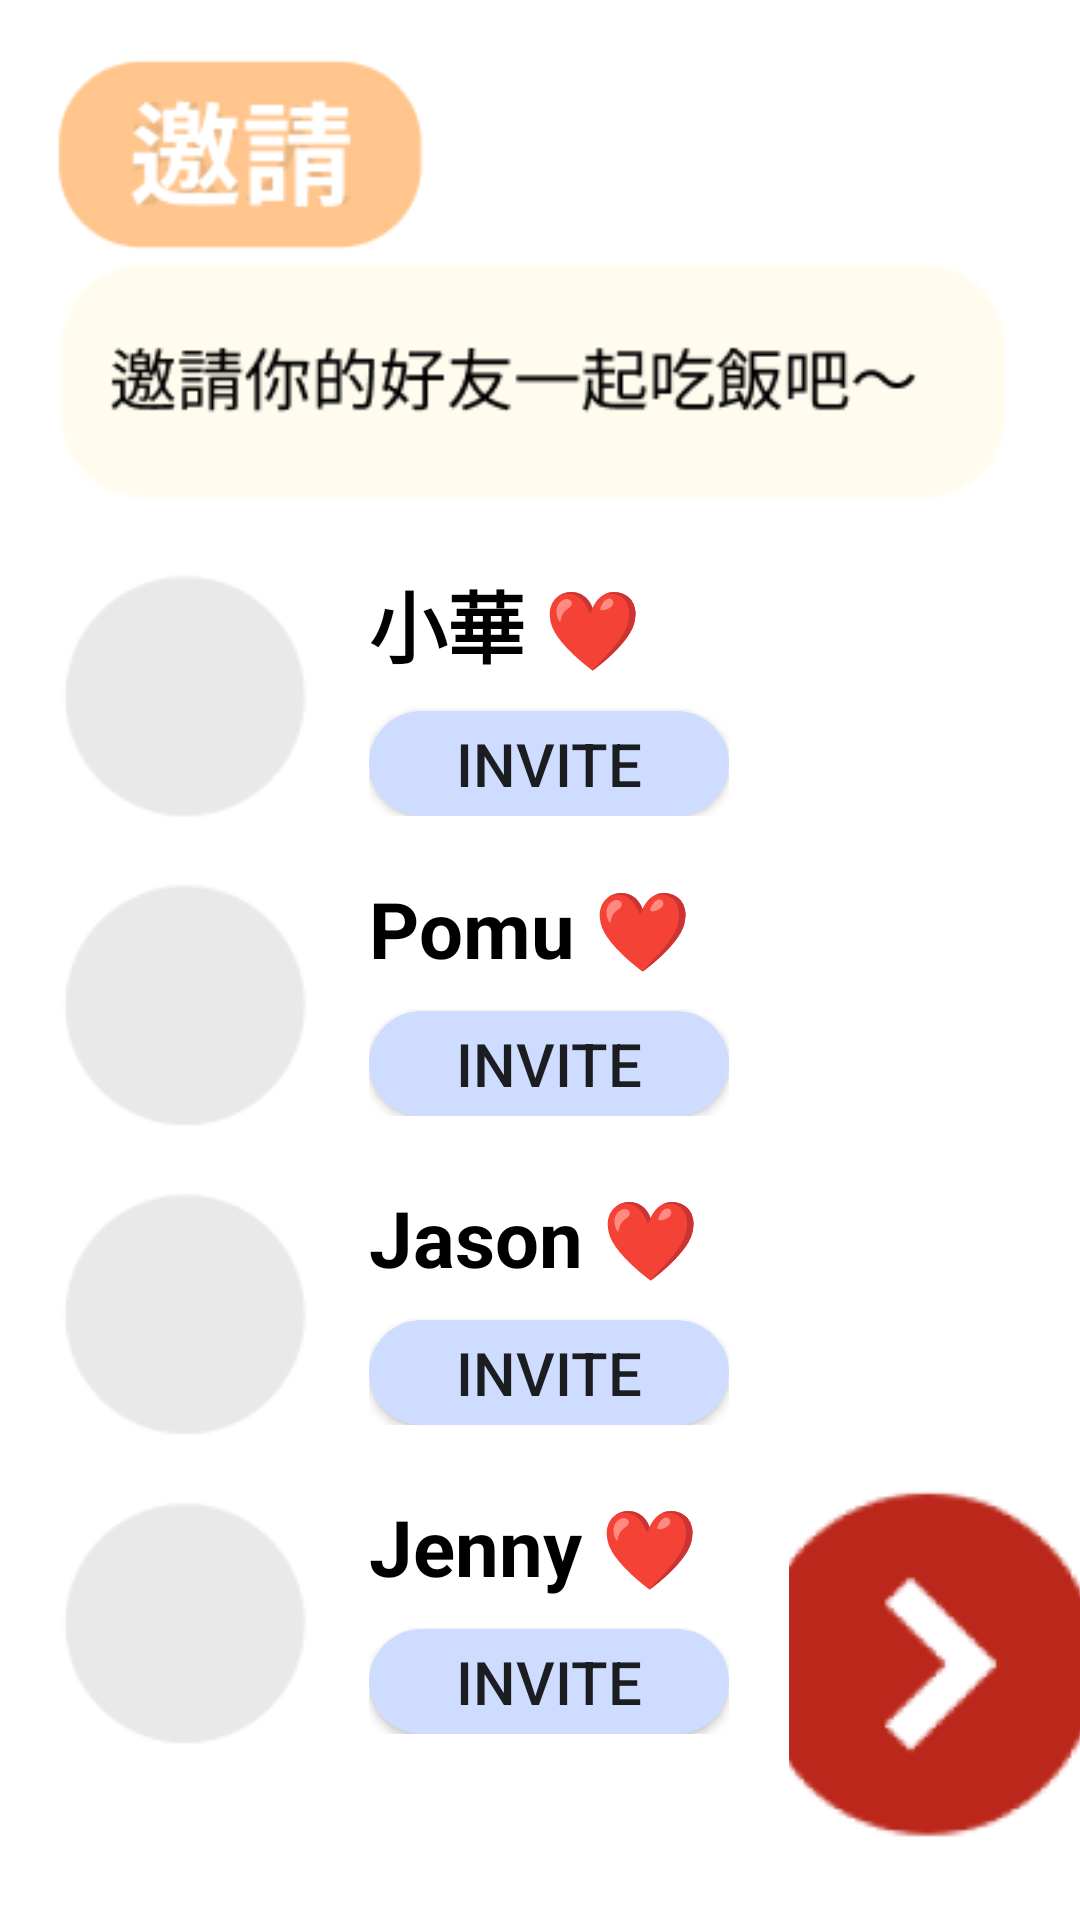

Icon bounding boxes for this 1080×1920 phone screenshot, format (x1, y1, x2, y2):
inv next pic: (789, 1492, 1080, 1837)
